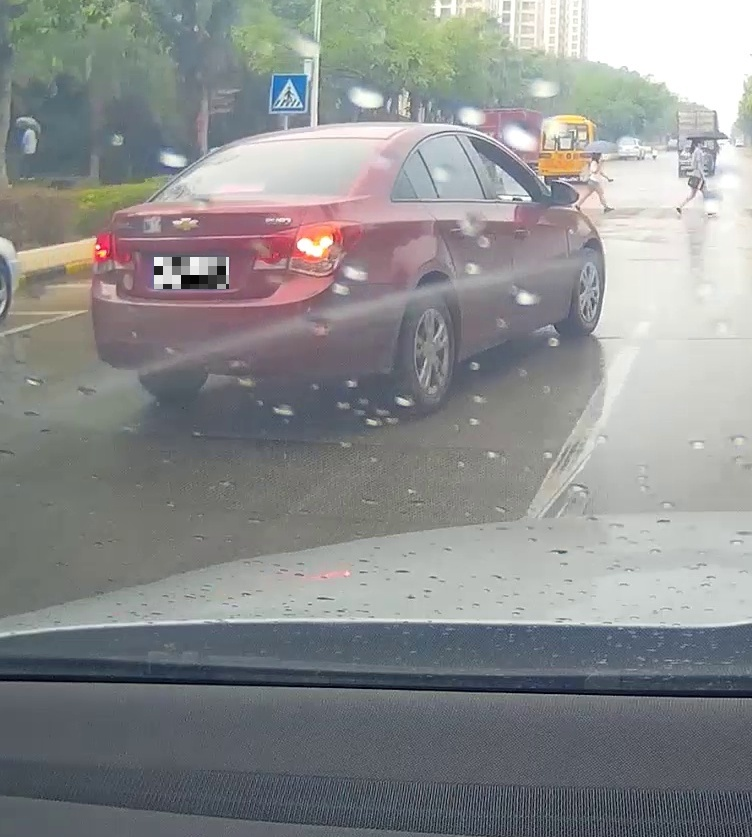L_light: (91, 227, 138, 274)
R_light: (252, 220, 365, 277)
T_light: (216, 181, 266, 194)
day-right: (87, 125, 397, 416)
plate_1: (154, 257, 229, 289)
